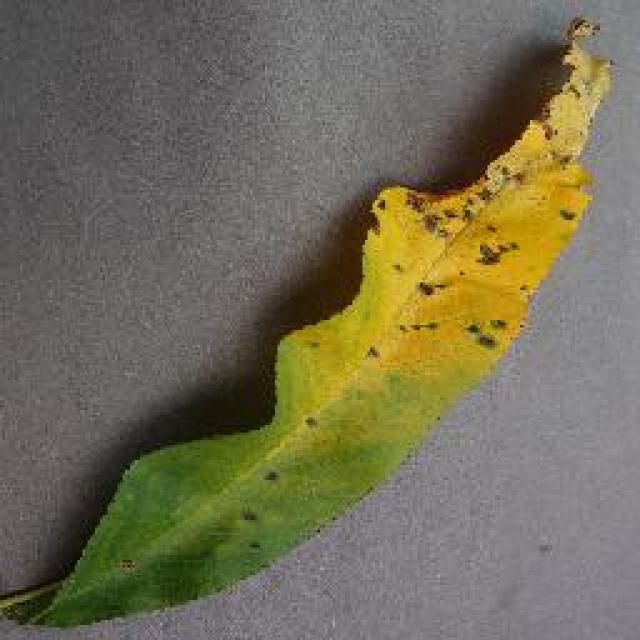Peach_Bacterial_Spot: (385, 50, 567, 415)
